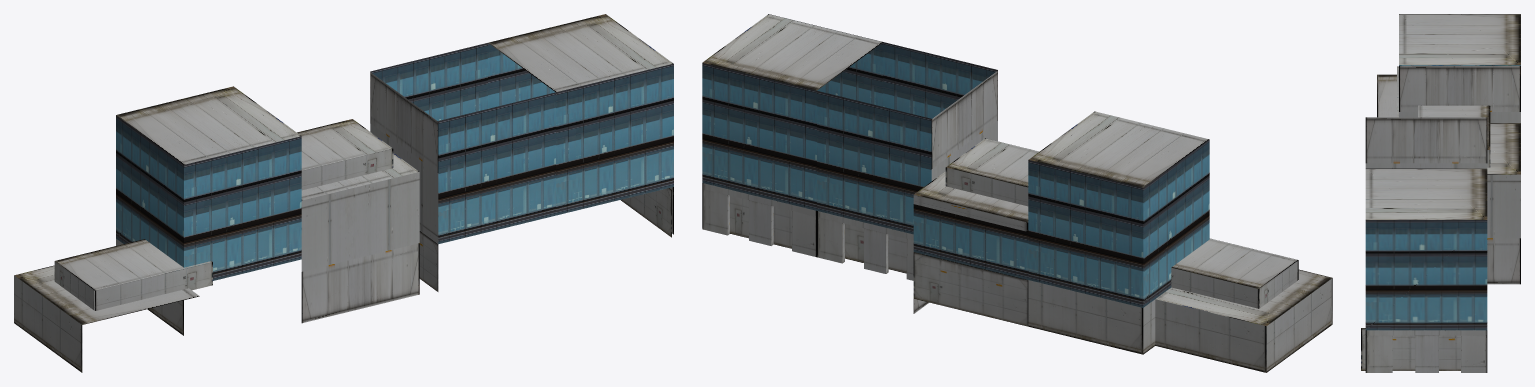
The model's file is building1.fbx.
The picture shows the model from 3 angles, left to right: view 1: azimuth 30°, elevation 25°; view 2: azimuth 150°, elevation 25°; view 3: azimuth 270°, elevation 25°; orthographic projection. The views are drawn at different scales.
Parts seen in each view (by area): view 1: pCube70; view 2: pCube70; view 3: pCube70.
Part boxes in pixels (left/top/right/bottom): pCube70: left=14, top=14, right=673, bottom=372; pCube70: left=702, top=14, right=1332, bottom=372; pCube70: left=1361, top=14, right=1520, bottom=372.
Size of the model in its own units: 37.52 by 11.47 by 9.91.
2 materials, 2 textured.
